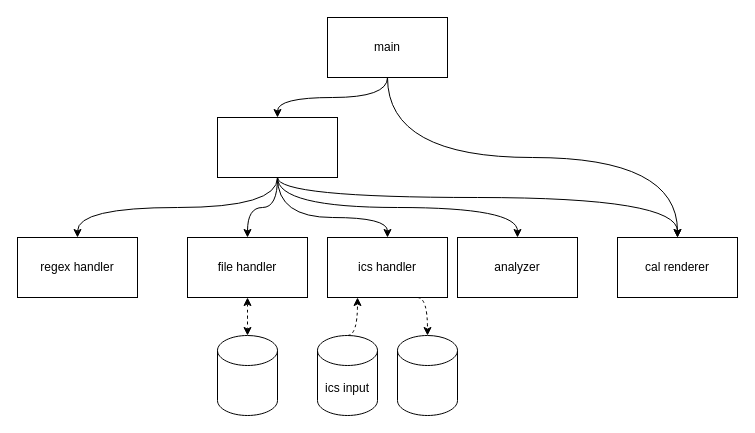
The diagram is 755 pixels wide and 433 high, and some of its shapes have lost their labels. Here are the shapes that lost their labels. From the top down, the centre of each, then its label:
At point (277, 147): "input handler".
At point (247, 375): "cal storage".
At point (427, 375): "ics output".
